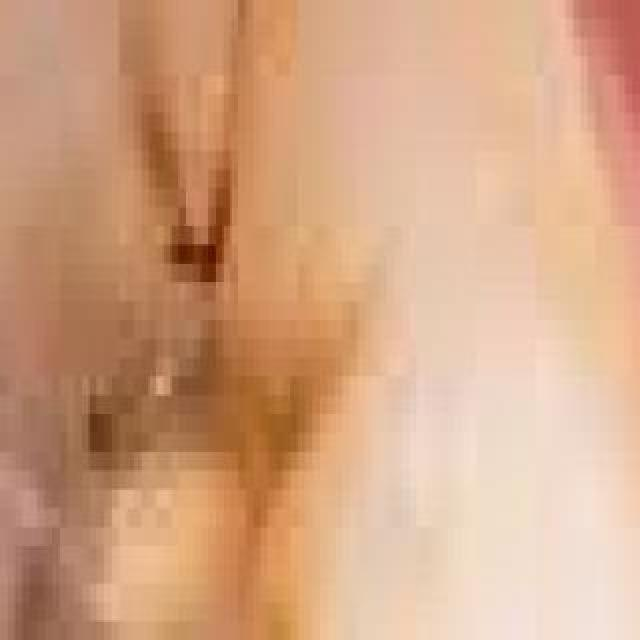cavities: (0, 18, 372, 638)
